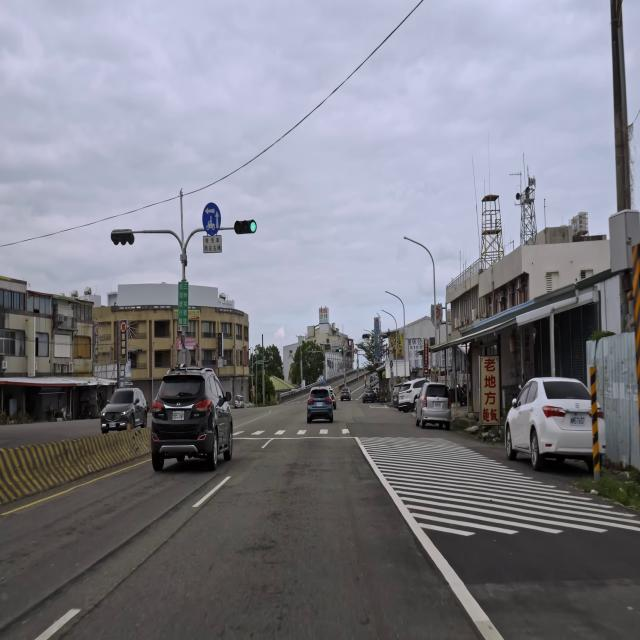green light: (233, 220, 257, 236)
